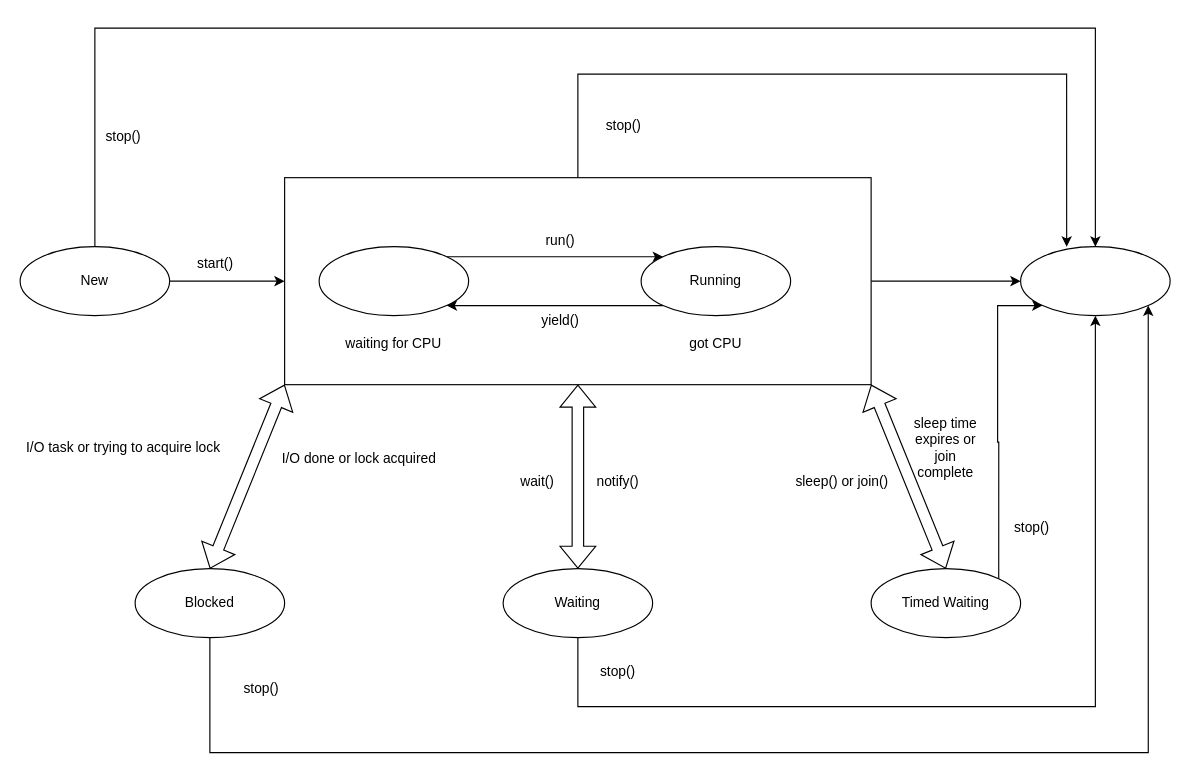
The diagram is 1190 pixels wide and 782 high, and some of its shapes have lost their labels. Each missing label, with the centre of its shape:
"Runnable" goes at [393,281].
"Terminated" goes at [1094,281].
